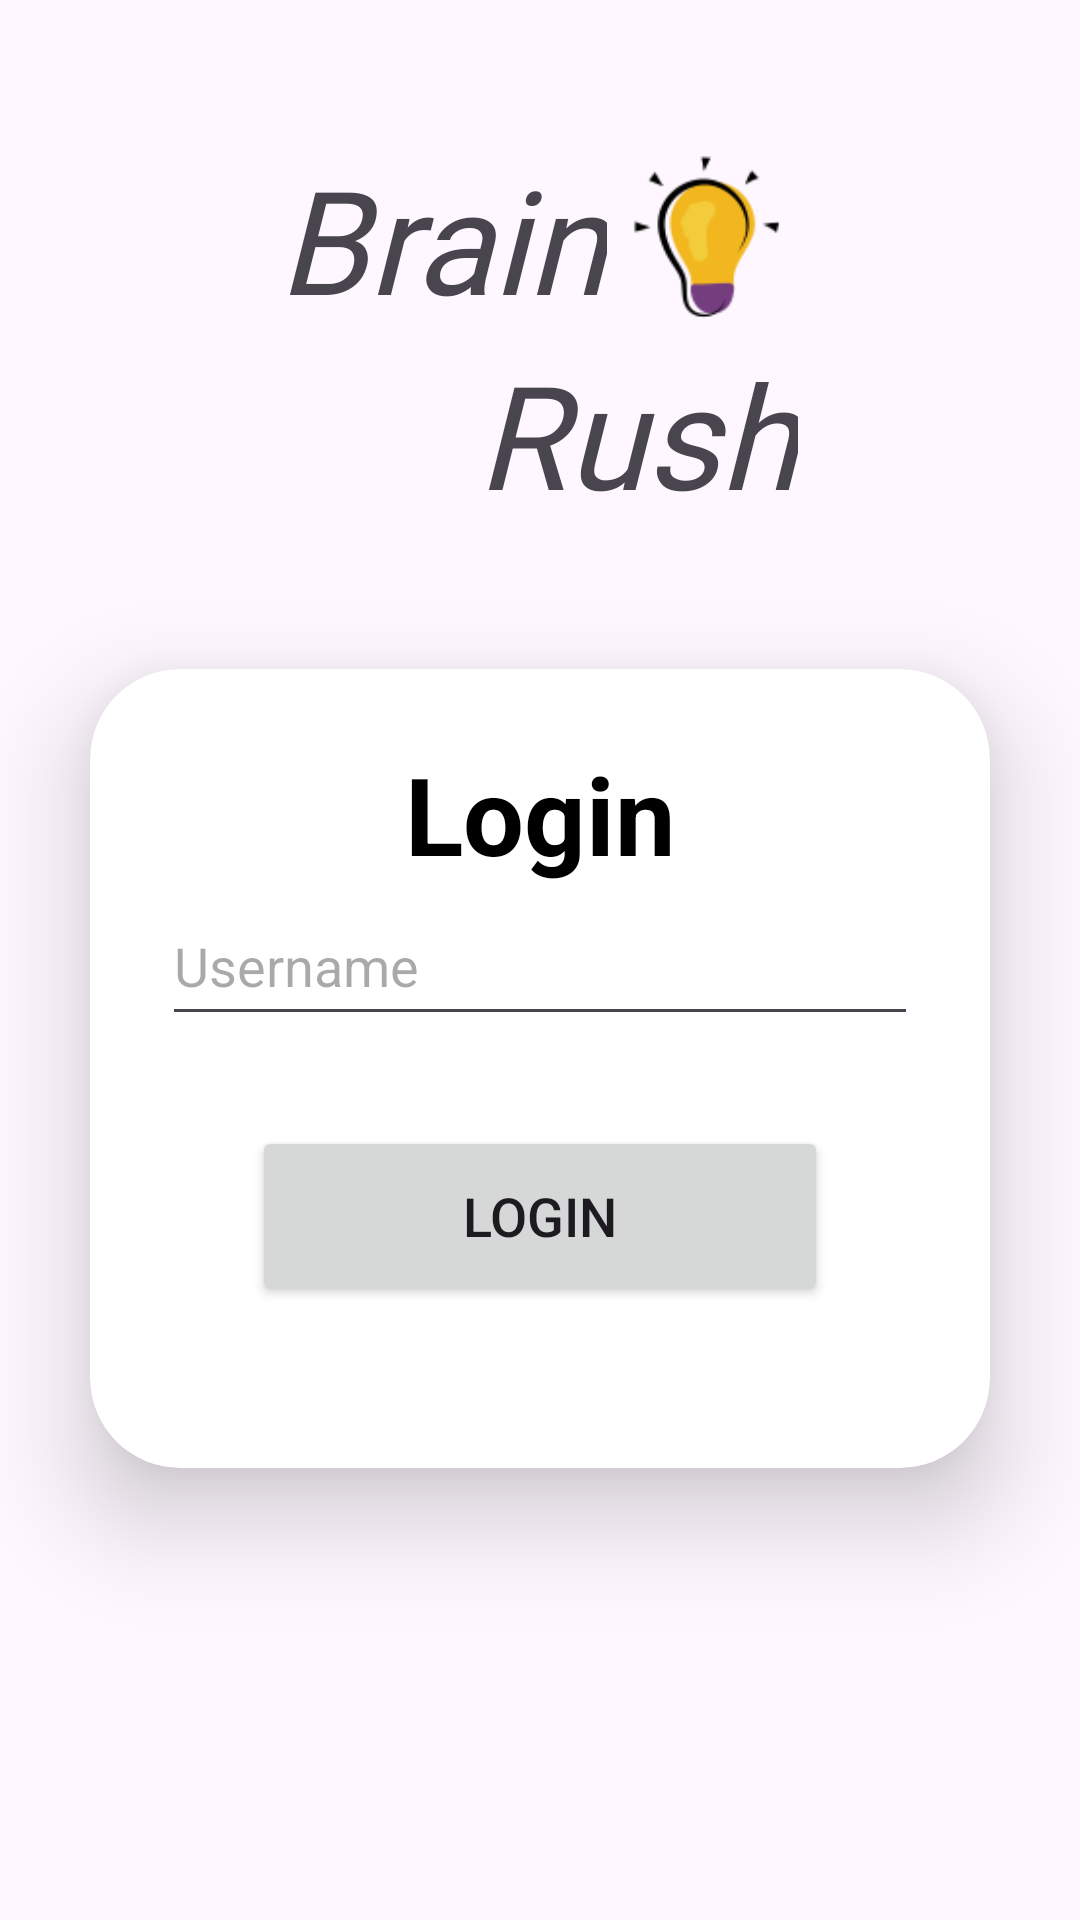

Icon click points for this 1080×1920 phone screenshot, format [x,y]:
bulb: [706,236]
